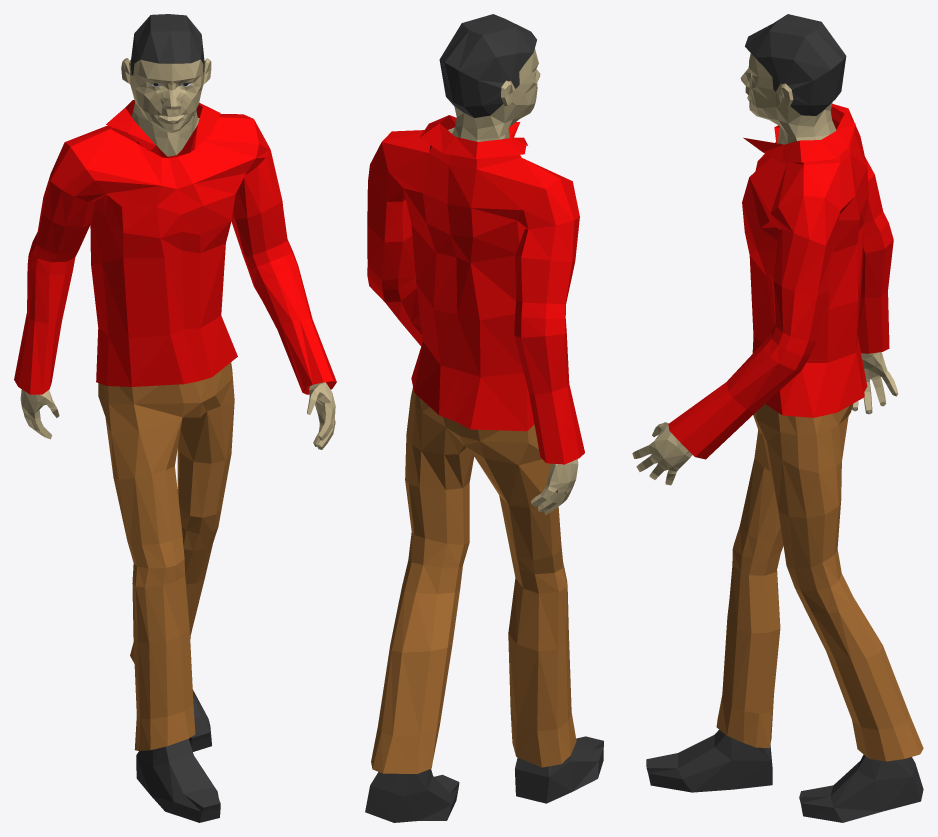
Rendered from person3.dae.
The picture shows the model from 3 angles, left to right: view 1: azimuth 30°, elevation 25°; view 2: azimuth 150°, elevation 25°; view 3: azimuth 270°, elevation 25°; orthographic projection. The views are drawn at different scales.
Visible parts, largest first — view 1: material_Shape_Coord_Material__5__Surf, material_Shape_Coord_Material__1__Surf, material_Shape_Coord_Material__6__Surf, material_Shape_Coord_Material__2__Surf, material_Shape_Coord_Material__4__Surf; view 2: material_Shape_Coord_Material__5__Surf, material_Shape_Coord_Material__1__Surf, material_Shape_Coord_Material__2__Surf, material_Shape_Coord_Material__4__Surf, material_Shape_Coord_Material__6__Surf; view 3: material_Shape_Coord_Material__5__Surf, material_Shape_Coord_Material__1__Surf, material_Shape_Coord_Material__2__Surf, material_Shape_Coord_Material__6__Surf, material_Shape_Coord_Material__4__Surf.
Boxes of the visible parts, left/top/right/bottom form: material_Shape_Coord_Material__5__Surf: left=14, top=100, right=336, bottom=394; material_Shape_Coord_Material__1__Surf: left=98, top=362, right=234, bottom=750; material_Shape_Coord_Material__6__Surf: left=20, top=58, right=335, bottom=449; material_Shape_Coord_Material__2__Surf: left=136, top=83, right=220, bottom=822; material_Shape_Coord_Material__4__Surf: left=130, top=14, right=204, bottom=75; material_Shape_Coord_Material__5__Surf: left=367, top=115, right=584, bottom=464; material_Shape_Coord_Material__1__Surf: left=371, top=387, right=576, bottom=773; material_Shape_Coord_Material__2__Surf: left=365, top=736, right=603, bottom=822; material_Shape_Coord_Material__4__Surf: left=439, top=14, right=536, bottom=117; material_Shape_Coord_Material__6__Surf: left=448, top=49, right=578, bottom=514; material_Shape_Coord_Material__5__Surf: left=668, top=104, right=893, bottom=459; material_Shape_Coord_Material__1__Surf: left=716, top=403, right=923, bottom=761; material_Shape_Coord_Material__2__Surf: left=646, top=729, right=923, bottom=822; material_Shape_Coord_Material__6__Surf: left=632, top=53, right=898, bottom=485; material_Shape_Coord_Material__4__Surf: left=745, top=14, right=846, bottom=115.
Bounding box in the file's own units: 7.14 × 21.15 × 7.23.
